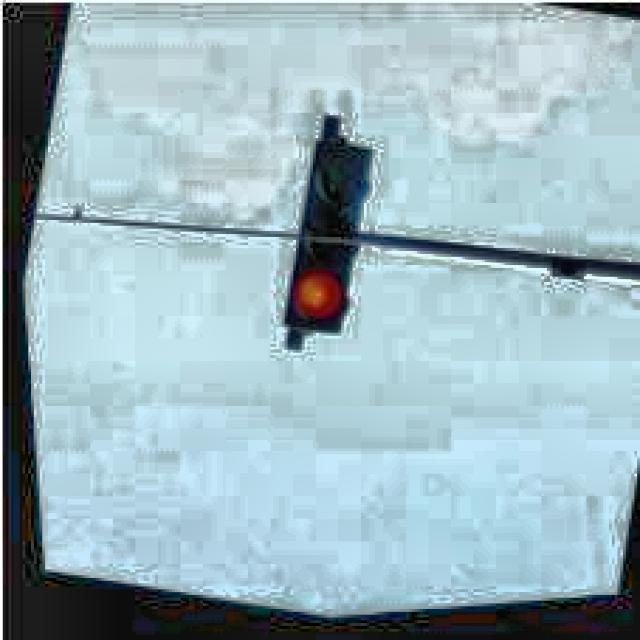red: (258, 135, 385, 350)
